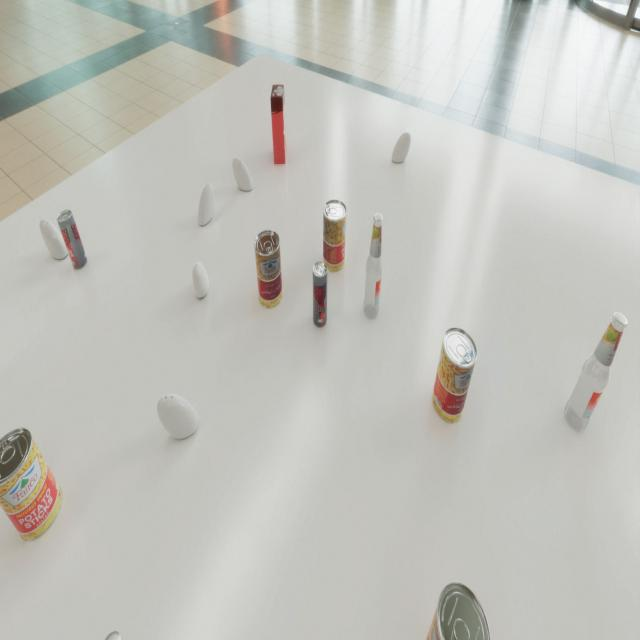Bottle: (564, 312, 628, 431), (363, 213, 383, 319)
HelloPanda: (270, 85, 286, 164)
Potato_sticks: (0, 427, 62, 541), (432, 328, 477, 423), (254, 230, 283, 308), (323, 200, 347, 272)
Rita_zero_sugar: (57, 209, 87, 270), (312, 261, 328, 328)
Salt: (156, 394, 198, 439), (39, 219, 69, 259), (198, 183, 215, 226), (232, 158, 253, 191), (391, 132, 411, 163), (192, 262, 209, 298)
